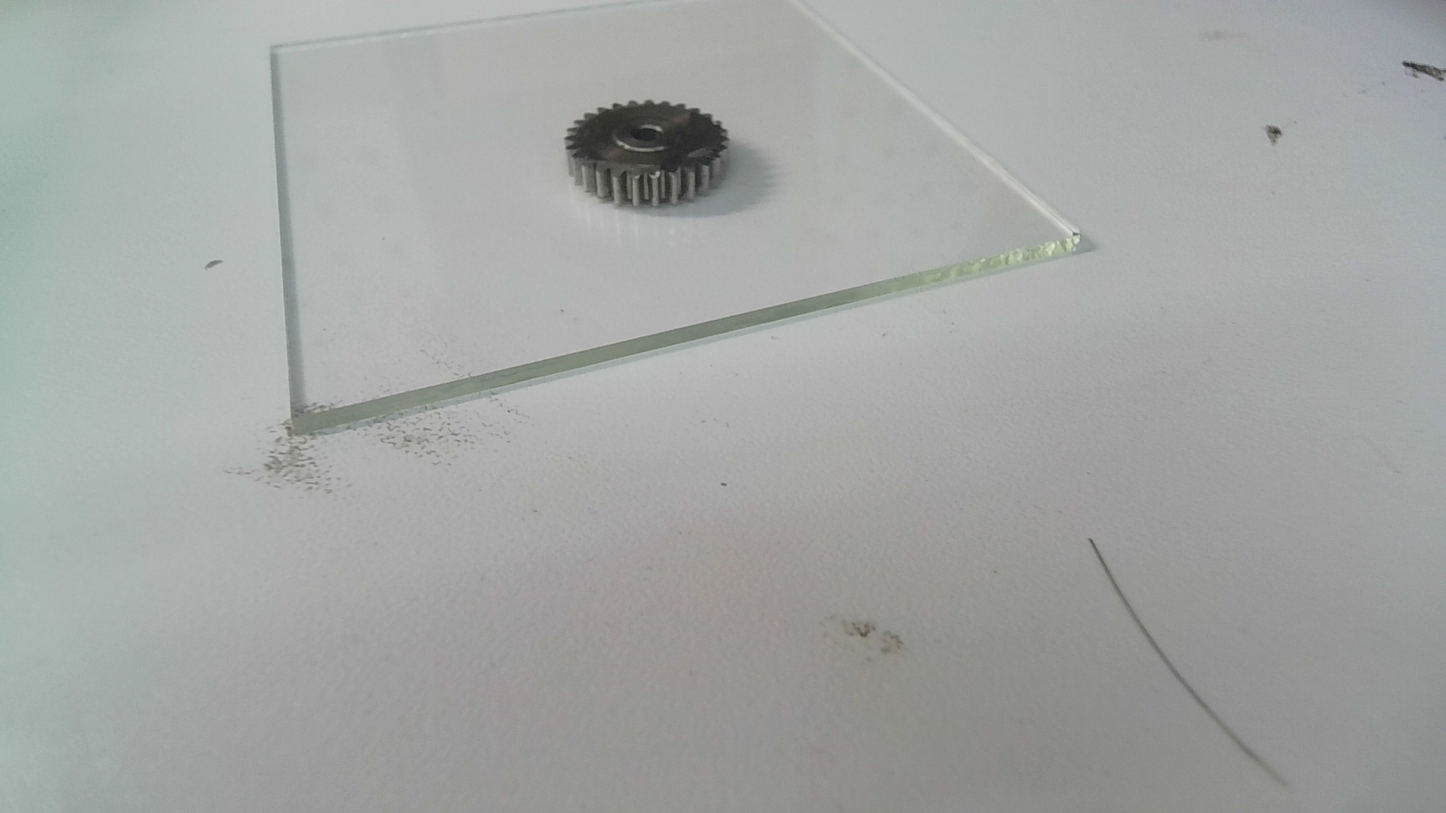gear: (560, 97, 734, 213)
